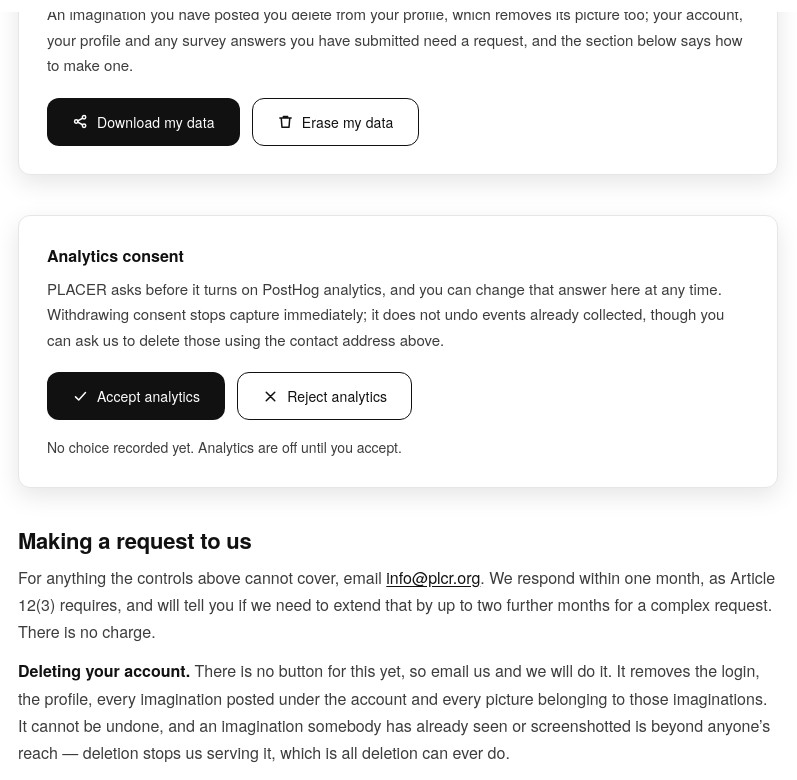
TermsAndPrivacyPage data controls › records an analytics decision and lets it be withdrawn again
(page scrolled)
Expected: the text "No choice recorded yet. Analytics are off until you accept." is shown, x1=47 y1=438 x2=402 y2=458
Click the button "Accept analytics".
click(136, 396)  # box x1=47 y1=372 x2=225 y2=420
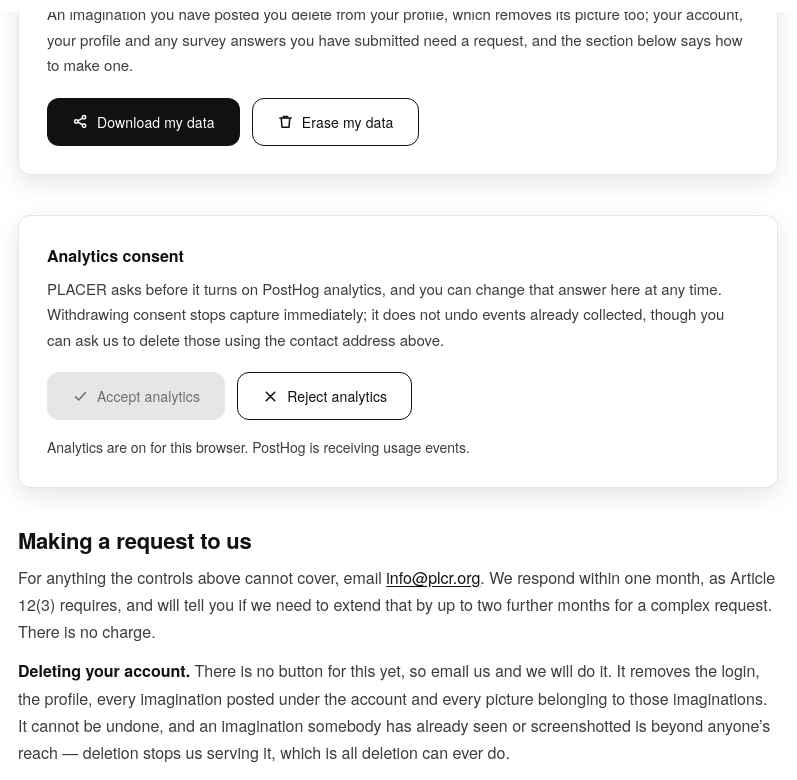
Expected: the text "Analytics are on for this browser" is shown, x1=47 y1=438 x2=470 y2=458
Expected: the button "Accept analytics" is disabled, x1=47 y1=372 x2=225 y2=420
Click the button "Reject analytics".
click(325, 396)  # box x1=237 y1=372 x2=412 y2=420
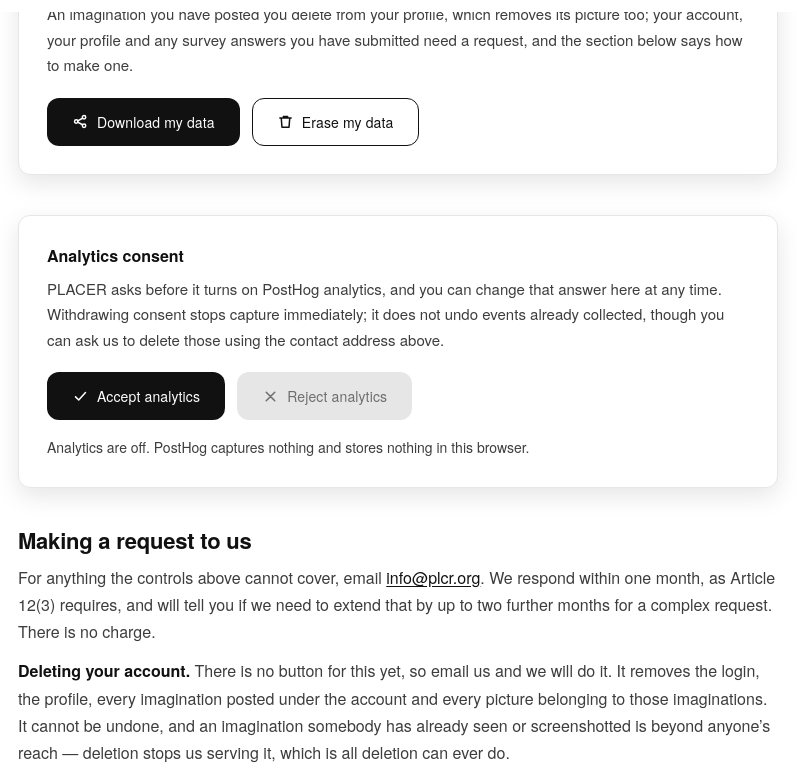
Expected: the text "Analytics are off" is shown, x1=47 y1=438 x2=529 y2=458
